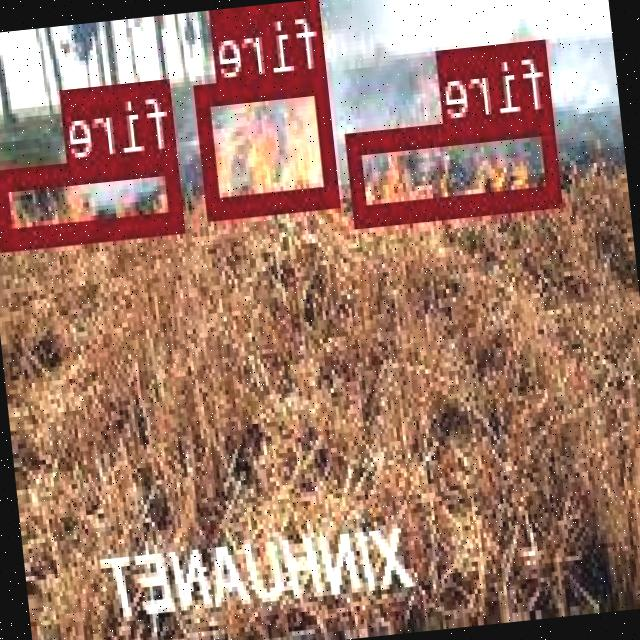fire: (349, 109, 565, 224), (197, 68, 340, 212), (0, 148, 186, 246)
